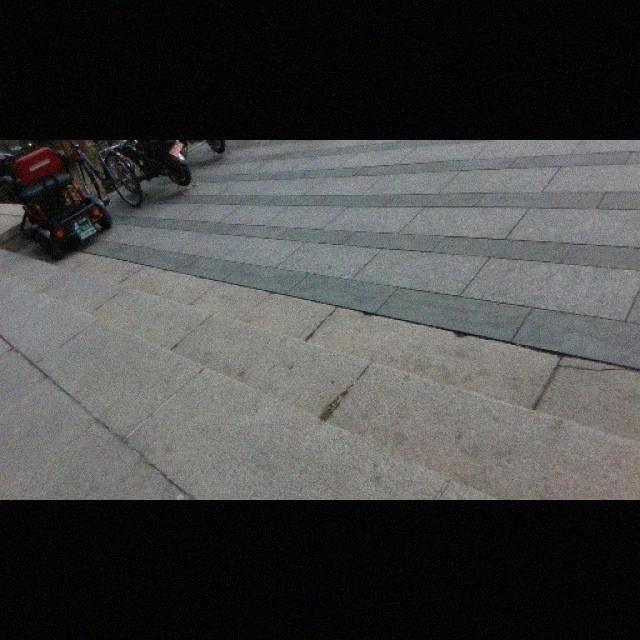stair: (4, 263, 608, 495)
